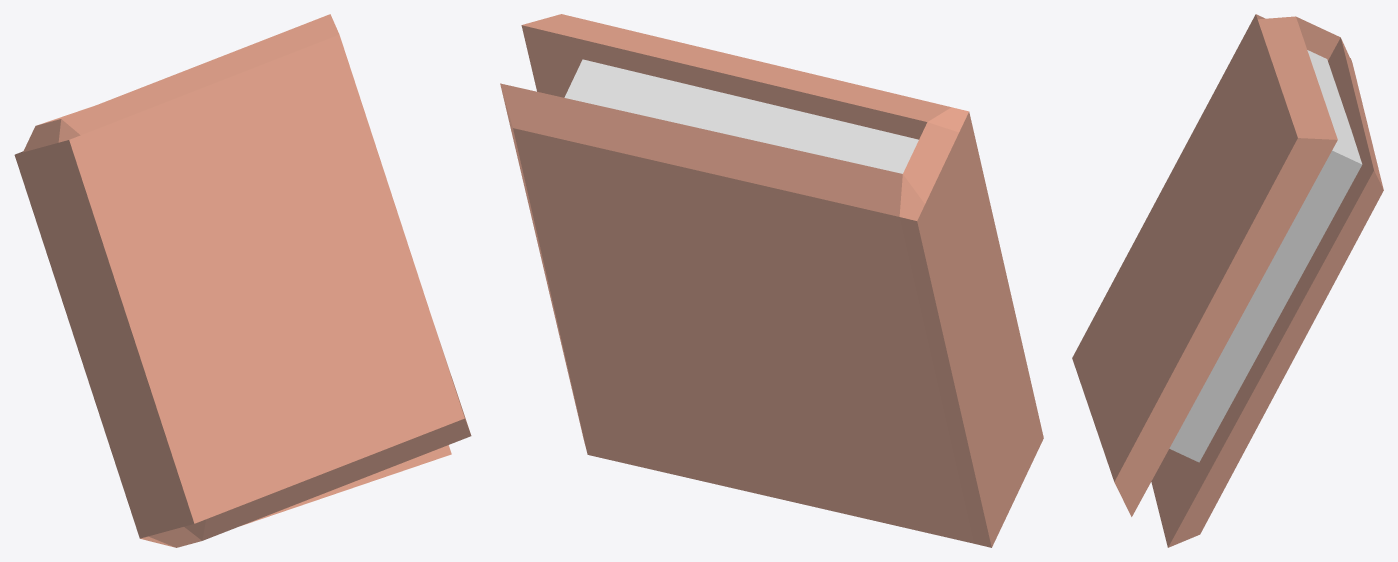
Rendered from MadeByJawns_ItchIO_GameItems_v1_0_1_Book.glb.
3 views of the same model, side by side, from view 1: azimuth 30°, elevation 25°; view 2: azimuth 150°, elevation 25°; view 3: azimuth 270°, elevation 25° (orthographic). The views are drawn at different scales.
Visible parts, largest first — view 1: Book; view 2: Book, InsideBook; view 3: Book, InsideBook.
Part boxes in pixels (box(x1,y1,x2,y2)): Book: box(14, 14, 471, 547); Book: box(500, 14, 1043, 547); InsideBook: box(564, 59, 918, 173); Book: box(1072, 14, 1383, 547); InsideBook: box(1169, 50, 1362, 462).
Size of the model in its own units: 4.49 by 4.91 by 3.47.
